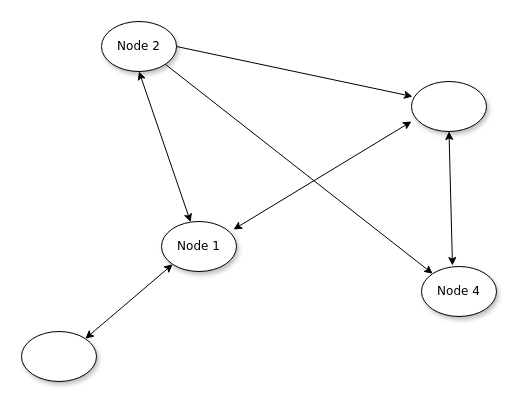
The diagram is 520 pixels wide and 406 high, and some of its shapes have lost their labels. Here are the shapes that lost their labels. From the top down, the centre of each, then its label:
At point 449,107: "Node 3".
At point 59,357: "Node 5".
